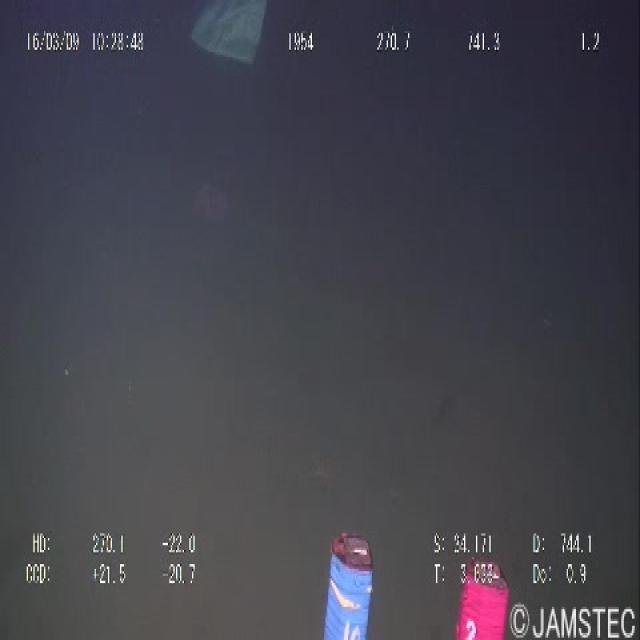plastic: (185, 0, 267, 73)
